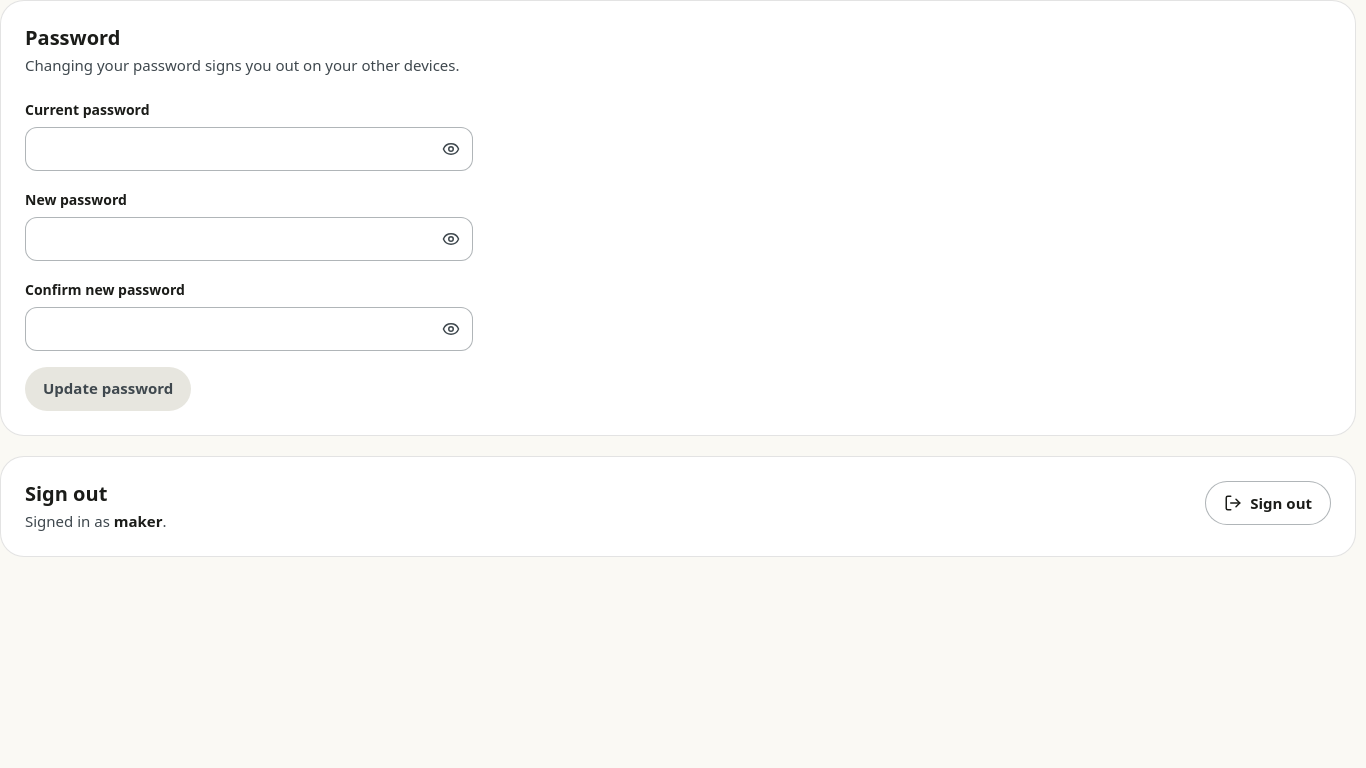
it: member sign out › resets the view and confirms when the server ends the session
Click the button named "Sign out" in the row of "maker". click: x=1268, y=503
box: x1=1205 y1=480 x2=1331 y2=525
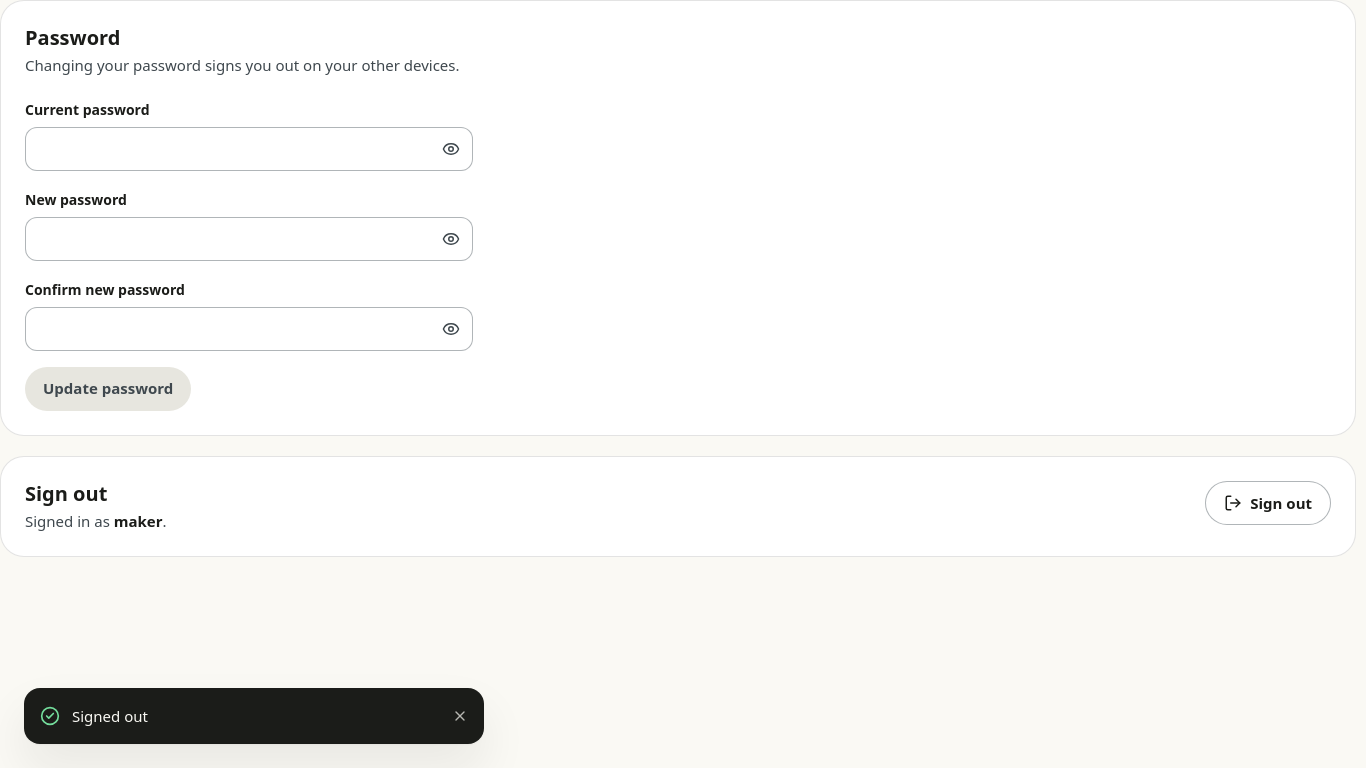
Now the message reads "Signed out", box x1=72 y1=706 x2=148 y2=726
